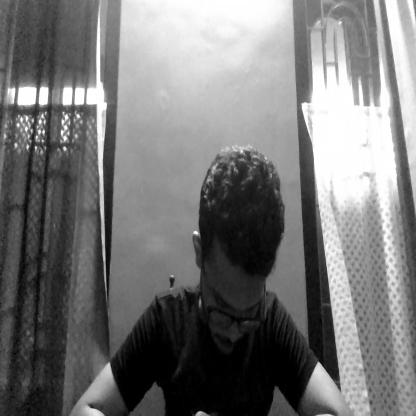Distracted: (198, 150, 287, 373)
